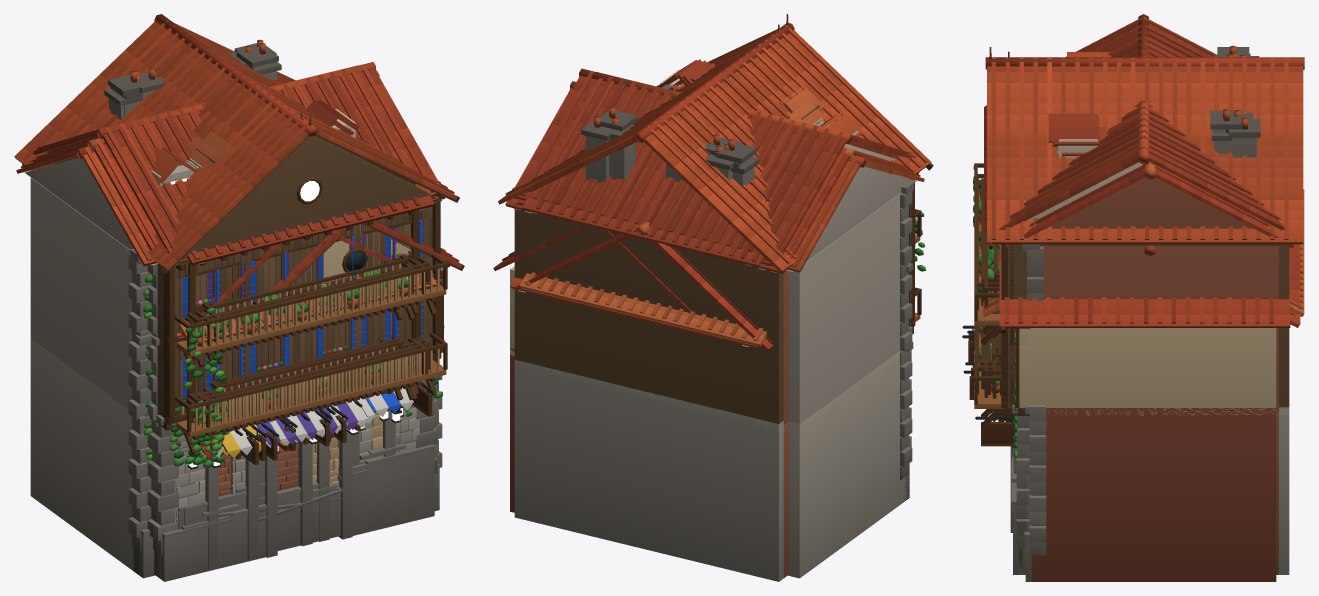
File: hill_street.glb
The picture shows the model from 3 angles, left to right: view 1: azimuth 30°, elevation 25°; view 2: azimuth 150°, elevation 25°; view 3: azimuth 270°, elevation 25°; orthographic projection. The views are drawn at different scales.
Visible parts, largest first — view 1: hill_L2_LOD0, hill_L12_LOD0, hill_R7_LOD0, hill_L11_LOD0, hill_R9_LOD0, hill_R8_LOD0, hill_R12_LOD0, hill_R2_LOD0, hill_L5_LOD0, hill_R10_LOD0, hill_L10_LOD0, hill_L1_LOD0 (+4 smaller); view 2: hill_L2_LOD0, hill_L12_LOD0, hill_R7_LOD0, hill_R9_LOD0, hill_R2_LOD0, hill_L11_LOD0, hill_R8_LOD0, hill_R12_LOD0, hill_L5_LOD0, hill_L0_LOD0, hill_L10_LOD0, hill_R3_LOD0; view 3: hill_R12_LOD0, hill_L2_LOD0, hill_R2_LOD0, hill_R9_LOD0, hill_R7_LOD0, hill_R3_LOD0, hill_L11_LOD0, hill_R10_LOD0, hill_L5_LOD0, hill_L10_LOD0, hill_R8_LOD0, sign_rent_22 (+1 smaller).
Part boxes in pixels (<box>): hill_L2_LOD0: <box>14,14,459,581</box>; hill_L12_LOD0: <box>16,146,242,578</box>; hill_R7_LOD0: <box>113,65,434,569</box>; hill_L11_LOD0: <box>176,267,436,559</box>; hill_R9_LOD0: <box>33,62,440,437</box>; hill_R8_LOD0: <box>175,231,412,550</box>; hill_R12_LOD0: <box>270,220,464,510</box>; hill_R2_LOD0: <box>22,70,379,577</box>; hill_L5_LOD0: <box>195,46,413,486</box>; hill_R10_LOD0: <box>46,75,438,482</box>; hill_L10_LOD0: <box>202,43,416,463</box>; hill_L1_LOD0: <box>181,331,402,437</box>; hill_L2_LOD0: <box>498,14,933,581</box>; hill_L12_LOD0: <box>666,113,924,578</box>; hill_R7_LOD0: <box>522,62,834,267</box>; hill_R9_LOD0: <box>514,59,915,257</box>; hill_R2_LOD0: <box>505,81,919,577</box>; hill_L11_LOD0: <box>519,272,766,346</box>; hill_R8_LOD0: <box>514,221,773,351</box>; hill_R12_LOD0: <box>493,225,695,512</box>; hill_L5_LOD0: <box>609,87,823,181</box>; hill_L0_LOD0: <box>510,277,757,347</box>; hill_L10_LOD0: <box>528,24,779,191</box>; hill_R3_LOD0: <box>658,60,741,155</box>; hill_R12_LOD0: <box>975,244,1290,581</box>; hill_L2_LOD0: <box>962,47,1304,574</box>; hill_R2_LOD0: <box>973,127,1294,574</box>; hill_R9_LOD0: <box>999,14,1284,447</box>; hill_R7_LOD0: <box>963,21,1264,514</box>; hill_R3_LOD0: <box>1016,54,1262,431</box>; hill_L11_LOD0: <box>962,189,1304,530</box>; hill_R10_LOD0: <box>972,53,1250,421</box>; hill_L5_LOD0: <box>970,110,1253,413</box>; hill_L10_LOD0: <box>994,51,1242,292</box>; hill_R8_LOD0: <box>965,244,1300,473</box>; sign_rent_22: <box>981,422,1016,446</box>.
Size of what is drawn, in the model's own units: 13.51 by 18.24 by 12.28.
